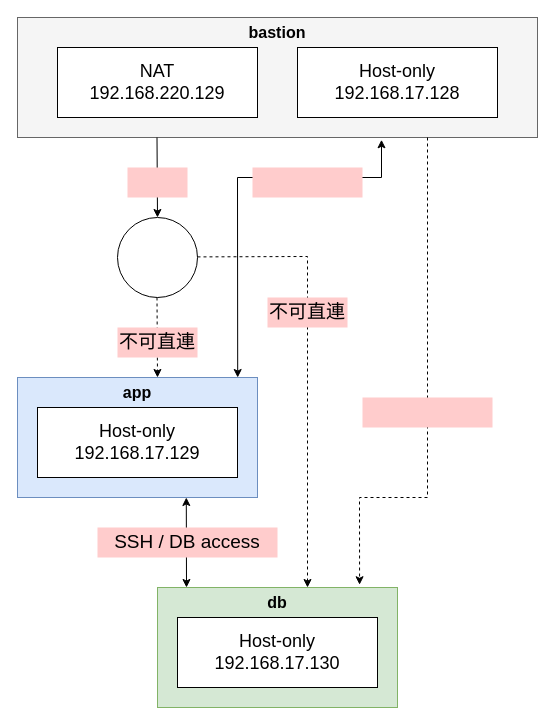
Some shapes in this 555 by 725 pixel diagram are drawn without their labels. Here are the shapes that lost their labels. From the top down, the centre of each, then its label:
pixel 157 182: 可上網
pixel 307 182: SSH / ping
pixel 157 257: Internet
pixel 427 412: SSH allowed
